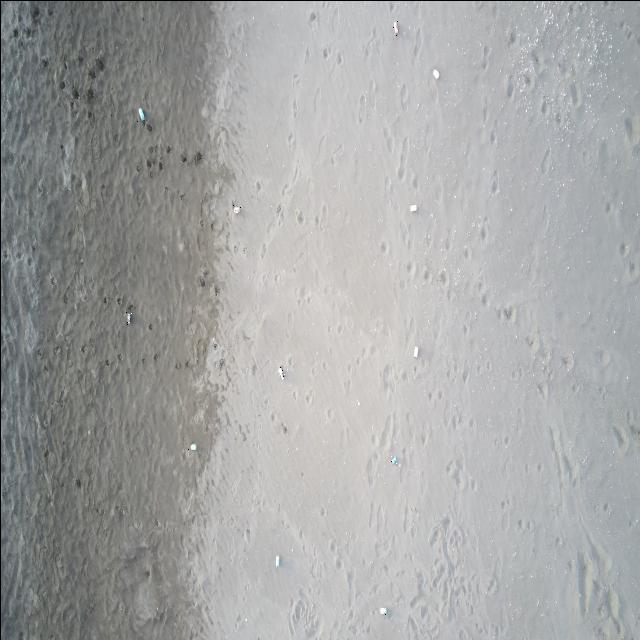Garbage: (232, 201, 240, 212), (138, 107, 143, 123), (125, 311, 131, 324), (432, 68, 439, 79), (392, 20, 397, 35), (379, 607, 387, 615), (408, 204, 416, 212), (279, 366, 283, 379), (275, 555, 279, 567), (391, 455, 396, 464), (412, 347, 417, 356), (190, 443, 196, 449)
